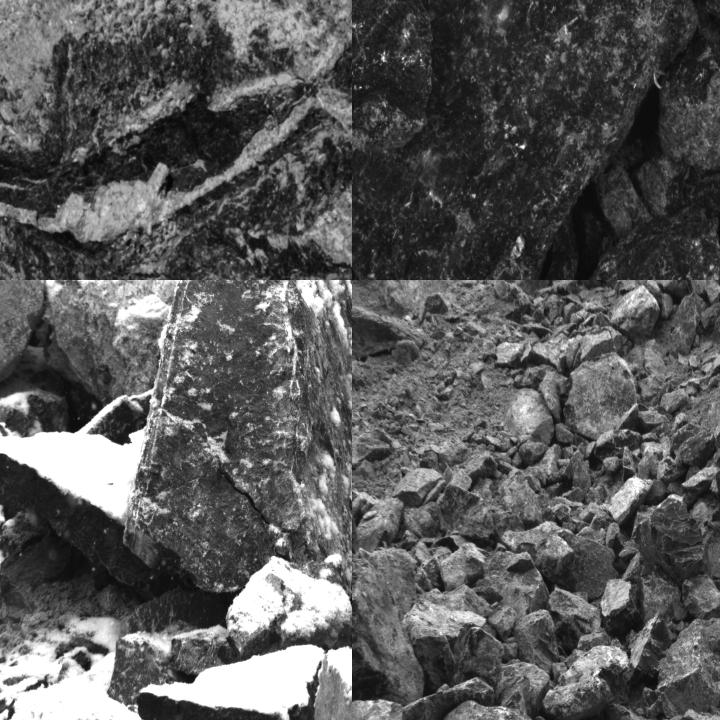stone: (352, 0, 695, 279), (121, 280, 351, 593), (0, 414, 157, 599), (43, 280, 188, 405), (135, 642, 325, 719), (225, 562, 351, 660), (352, 540, 426, 706), (551, 208, 719, 279), (108, 624, 233, 709), (499, 522, 619, 598), (634, 616, 719, 719), (657, 37, 719, 175), (632, 496, 710, 586), (544, 645, 634, 719), (562, 354, 639, 439), (0, 280, 47, 396), (437, 485, 523, 543), (596, 166, 654, 241), (478, 551, 549, 612), (448, 628, 505, 702), (632, 154, 693, 217), (546, 585, 602, 652), (601, 551, 641, 634), (607, 285, 660, 344), (355, 494, 405, 552), (512, 612, 557, 674), (669, 292, 709, 354), (606, 476, 654, 527), (432, 702, 570, 719), (500, 474, 544, 523), (544, 212, 576, 279), (391, 470, 442, 508), (414, 546, 453, 594), (679, 573, 719, 619), (594, 430, 642, 461), (674, 431, 713, 467), (565, 457, 589, 501), (352, 493, 381, 523)
